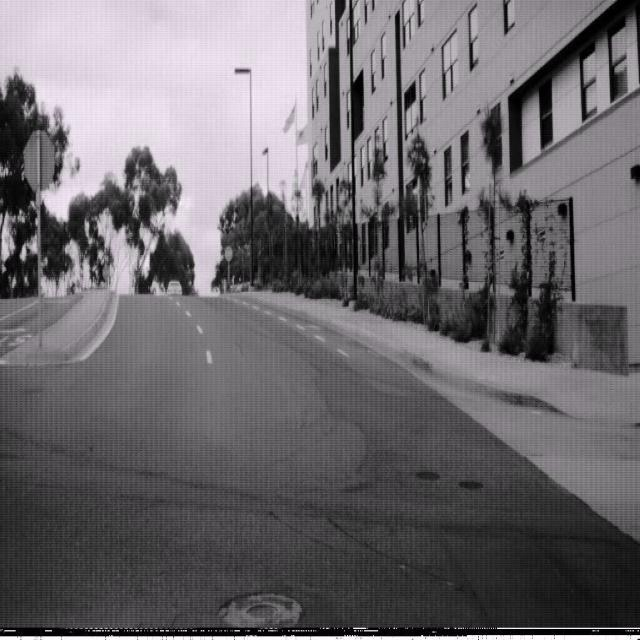stop: (224, 244, 232, 261)
